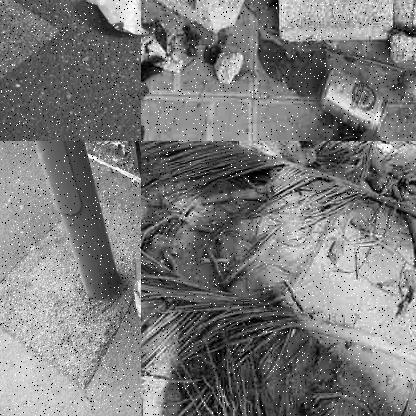glass: (132, 247, 140, 321)
metal: (316, 64, 390, 130)
plastic: (152, 230, 196, 259), (394, 260, 415, 304)
